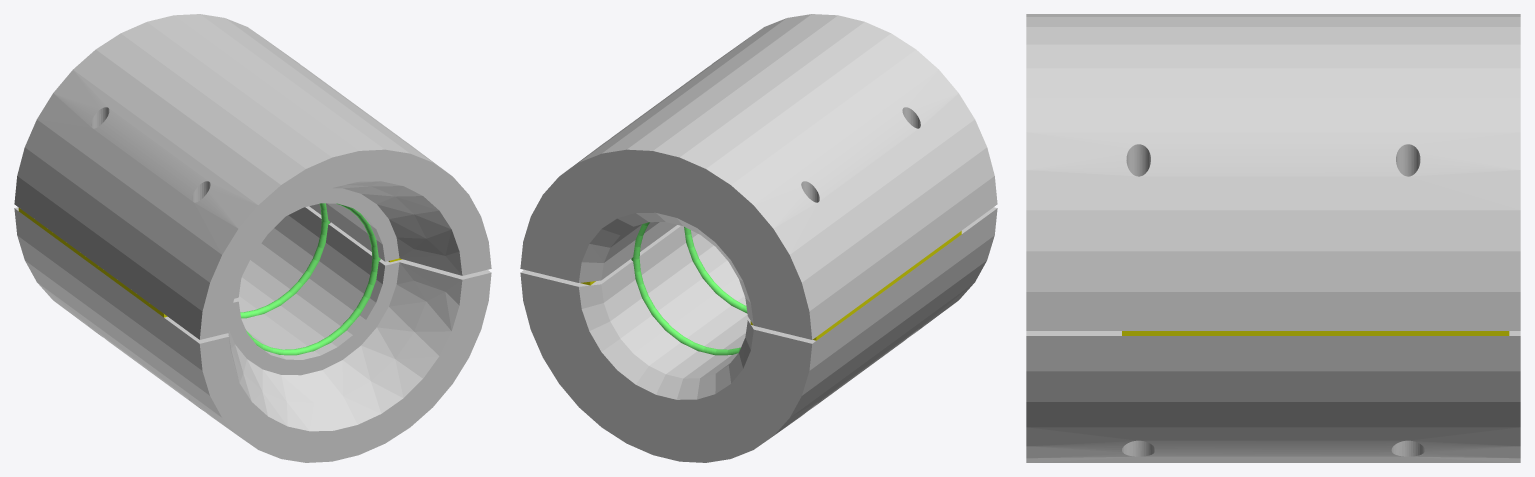
The model's file is Stroke Limiter Metric.obj.
3 renders of one model, left to right at view 1: azimuth 30°, elevation 25°; view 2: azimuth 150°, elevation 25°; view 3: azimuth 270°, elevation 25°, orthographic. The views are drawn at different scales.
Parts seen in each view (by area): view 1: b_Stroke_Limiter_Threaded_Half_001_, b_Stroke_Limiter_Cbore_Half_001_, Torus_001, b_Torus_002_001, b_Shim_001_001; view 2: b_Stroke_Limiter_Threaded_Half_001_, b_Stroke_Limiter_Cbore_Half_001_, b_Torus_002_, b_Torus_002_001, b_Shim_001_001; view 3: b_Stroke_Limiter_Threaded_Half_001_, b_Stroke_Limiter_Cbore_Half_001_, b_Shim_001_.
Part boxes in pixels (x1,y1,x2,y2): b_Stroke_Limiter_Threaded_Half_001_: (14, 14, 491, 339); b_Stroke_Limiter_Cbore_Half_001_: (14, 206, 491, 462); Torus_001: (246, 203, 380, 355); b_Torus_002_001: (240, 203, 329, 318); b_Shim_001_001: (18, 208, 167, 317); b_Stroke_Limiter_Threaded_Half_001_: (520, 14, 997, 339); b_Stroke_Limiter_Cbore_Half_001_: (520, 207, 997, 462); b_Torus_002_: (631, 222, 740, 355); b_Torus_002_001: (684, 227, 747, 313); b_Shim_001_001: (750, 231, 961, 340); b_Stroke_Limiter_Threaded_Half_001_: (1026, 14, 1520, 330); b_Stroke_Limiter_Cbore_Half_001_: (1026, 331, 1520, 462); b_Shim_001_: (1122, 331, 1509, 335).
Size of the model in its own units: 127 by 126 by 140.
